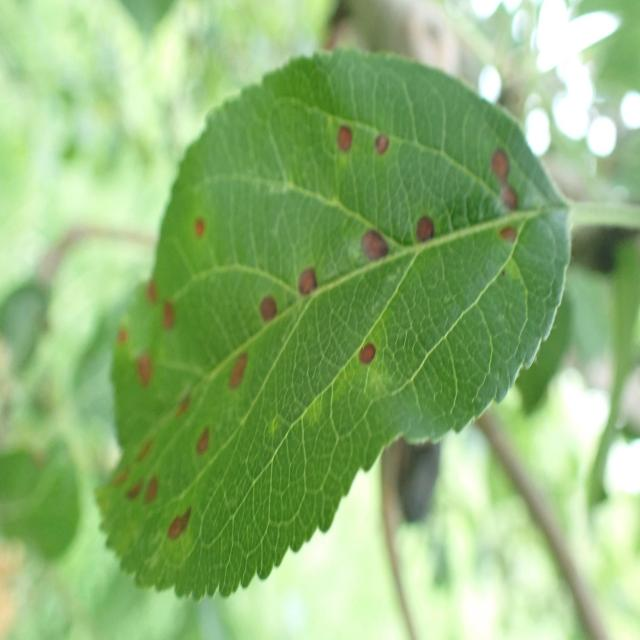Black Rot: (286, 256, 334, 319), (485, 133, 524, 210), (351, 222, 395, 281), (212, 344, 256, 403), (254, 277, 287, 350), (157, 500, 209, 544), (410, 199, 439, 270), (325, 116, 359, 164), (496, 214, 525, 264), (352, 328, 382, 376), (366, 122, 391, 175), (194, 420, 218, 474)
